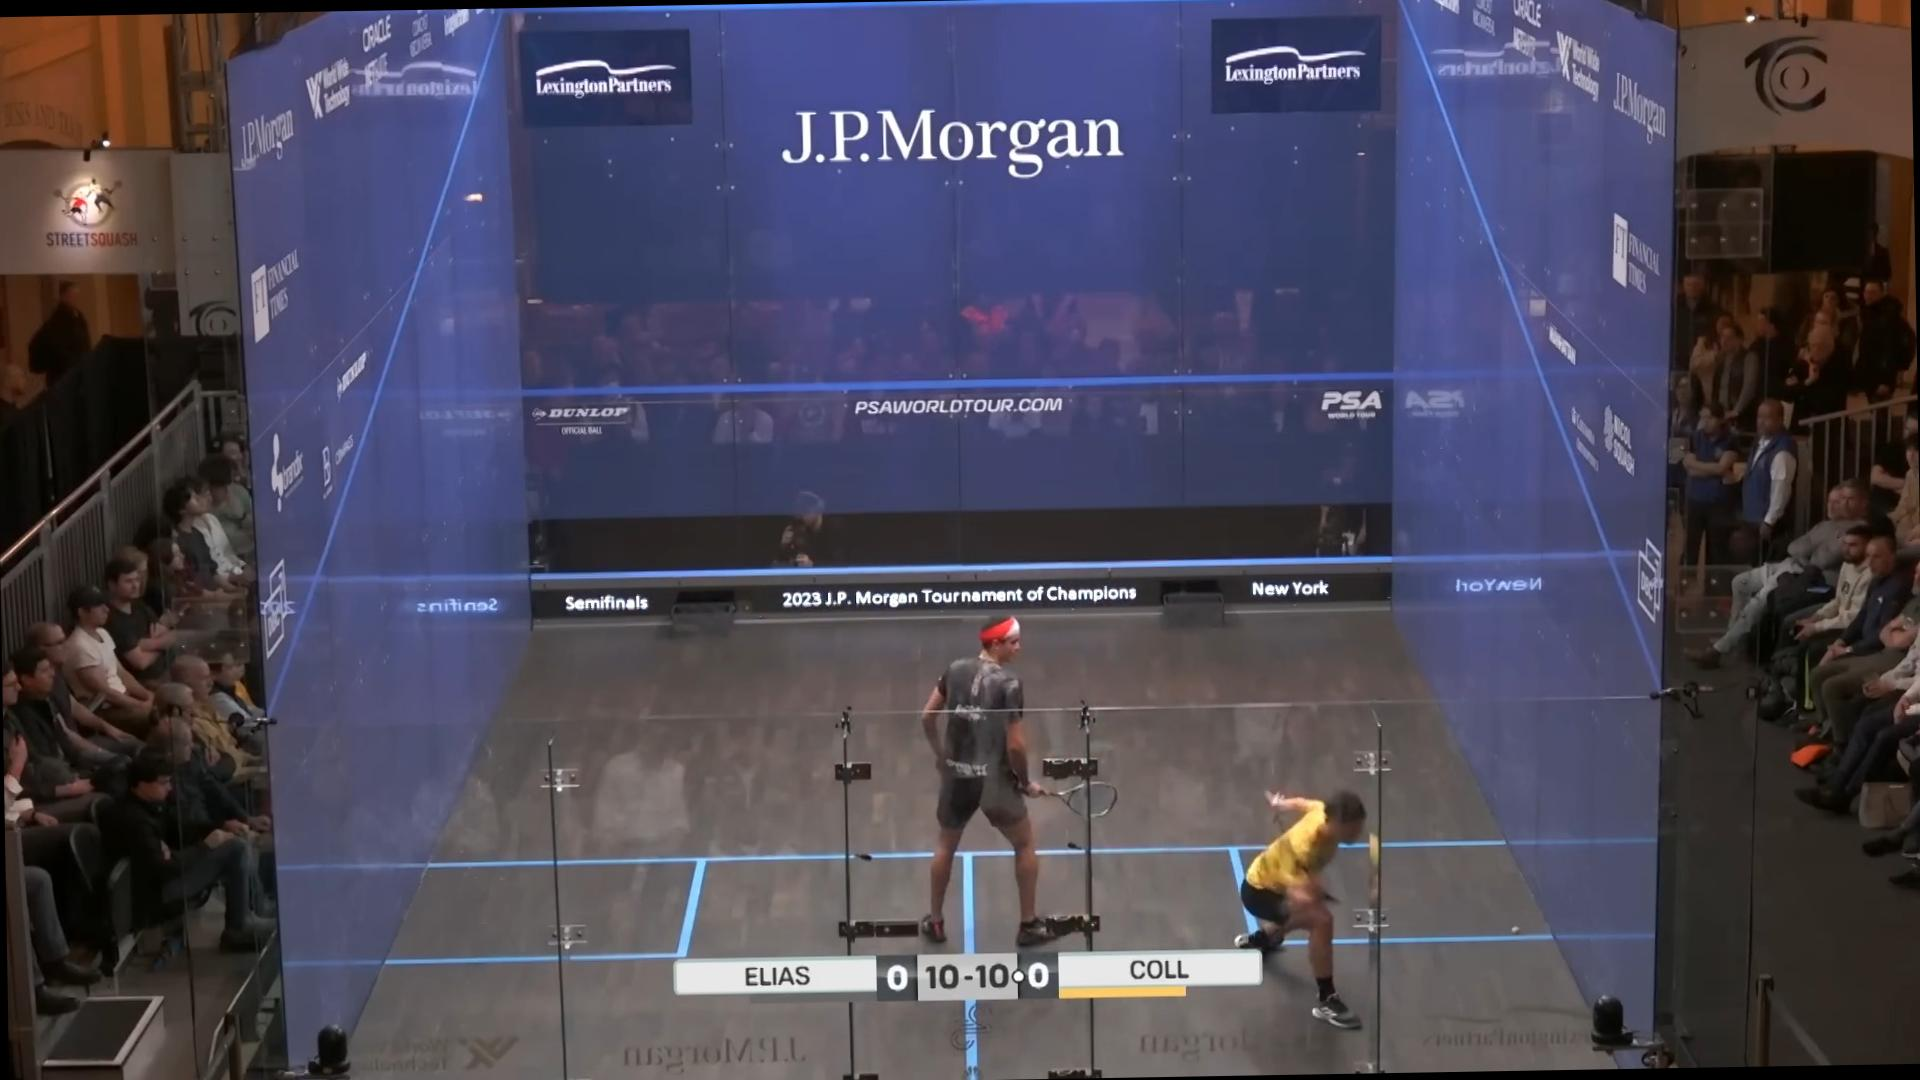Racket: (1033, 771, 1126, 829)
